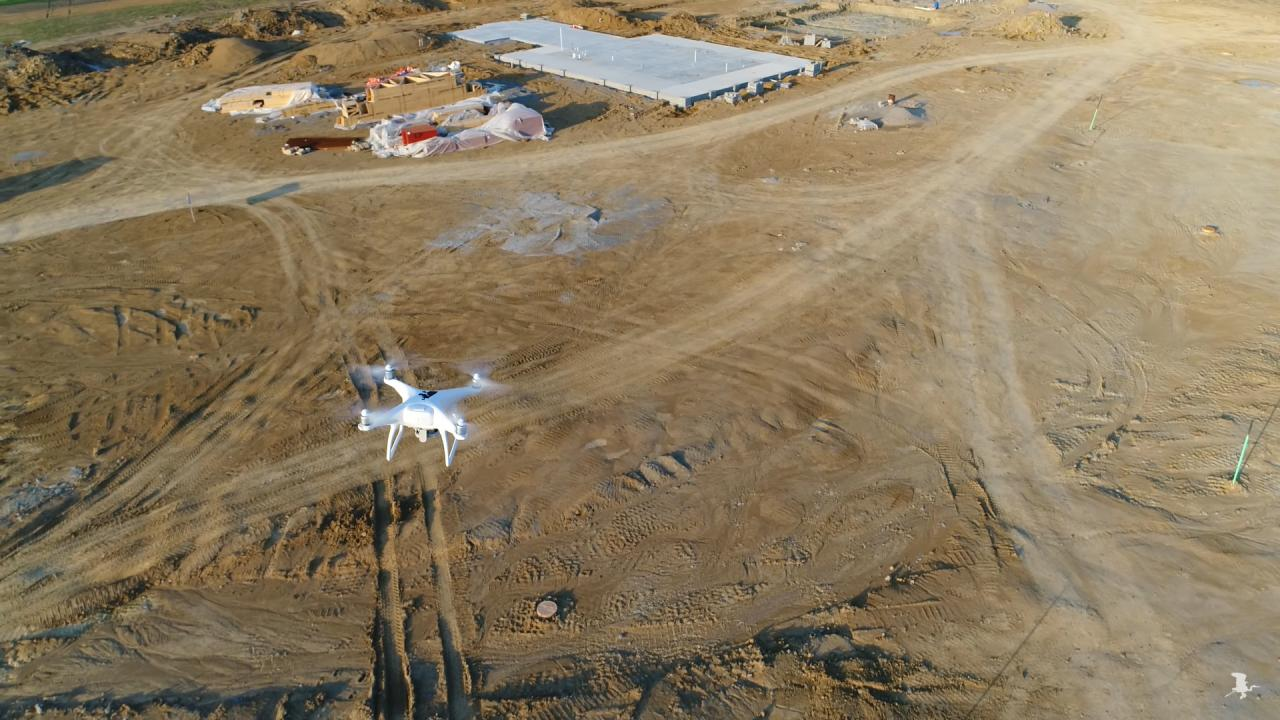Drone: (323, 351, 522, 476)
